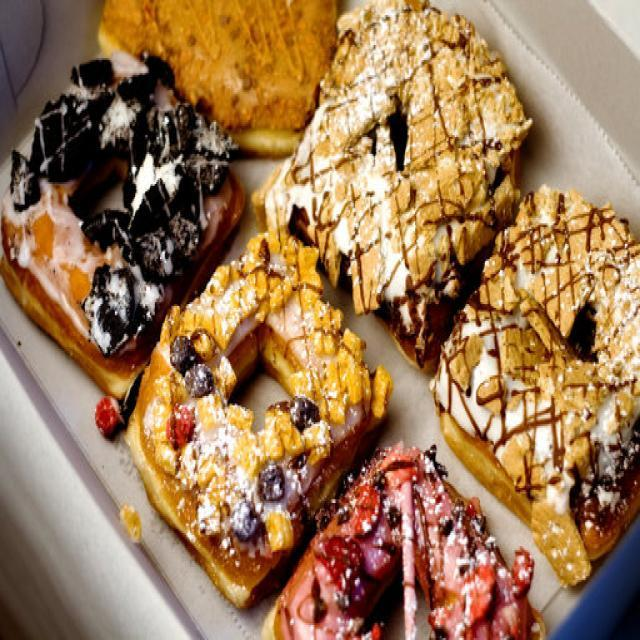Donuts: (6, 5, 640, 640)
